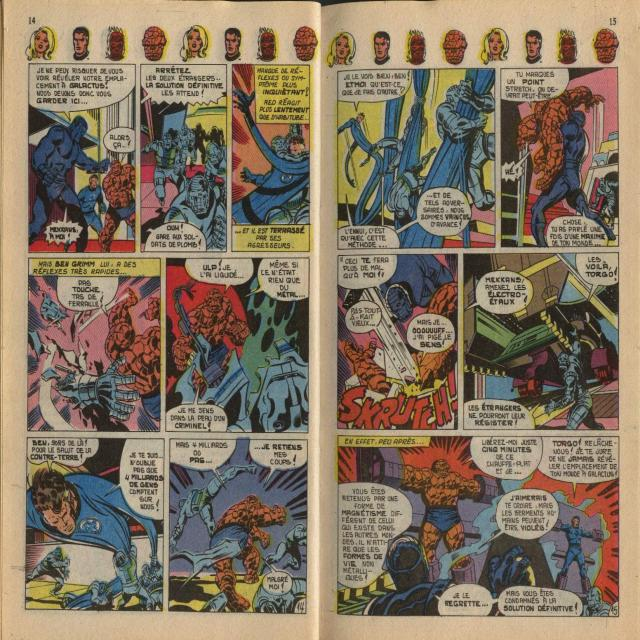comic_panel: (335, 433, 621, 620), (337, 67, 498, 252), (462, 250, 620, 434), (164, 255, 310, 436), (167, 437, 310, 616), (24, 434, 164, 616), (25, 256, 164, 434), (336, 252, 460, 433), (500, 66, 621, 249), (27, 62, 138, 257), (138, 64, 228, 255), (230, 62, 311, 255)
